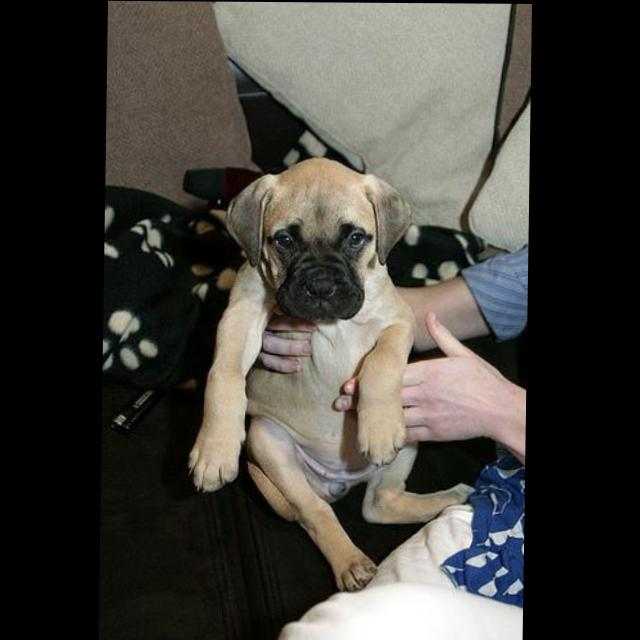bullmastiff: (188, 155, 483, 593)
